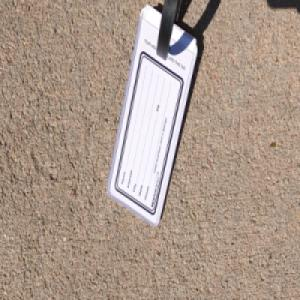LuggageTag: (105, 0, 198, 229)
